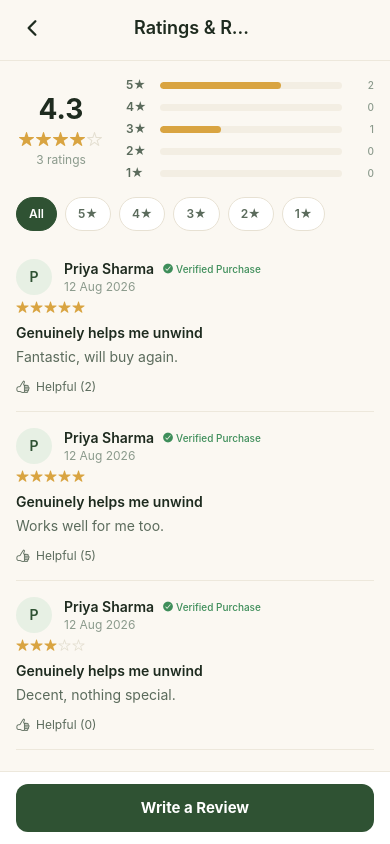
Test: ReviewsScreen › filters reviews by star rating, and pressing the same filter again resets to All
This screenshot has width=390, height=844.
Expected: the text "Decent, nothing special." is shown, [16,686,176,703]
What coordinates should you click on to do the following:
click the 1st text "5★"
I would click on:
 (136, 84)
Its box is [126,77,146,92].
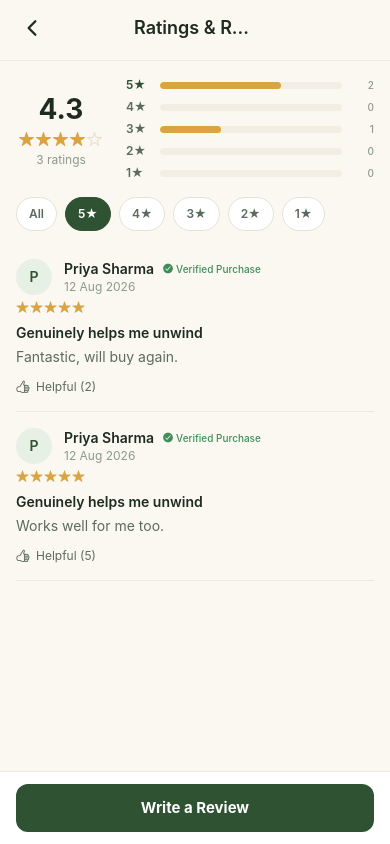
Expected: the text "Fantastic, will buy again." is shown, [16,348,178,365]
Now the text "Decent, nothing special." is gone
What coordinates should you click on to do the following:
click the 1st text "5★"
I would click on:
 (136, 84)
Its box is [126,77,146,92].
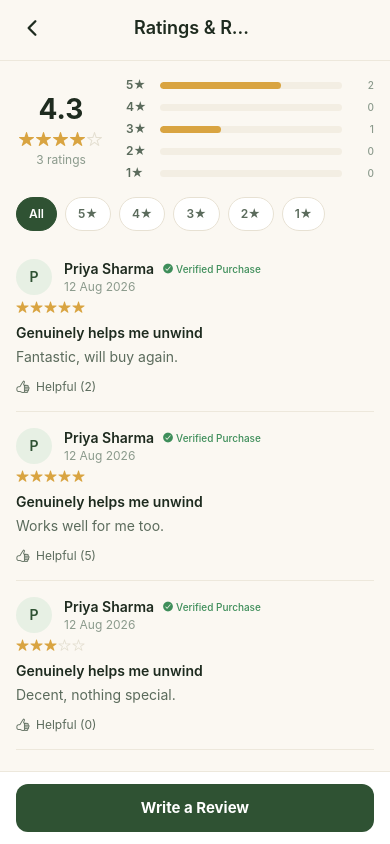
Now the text "Decent, nothing special." is shown, box [16,686,176,703]
